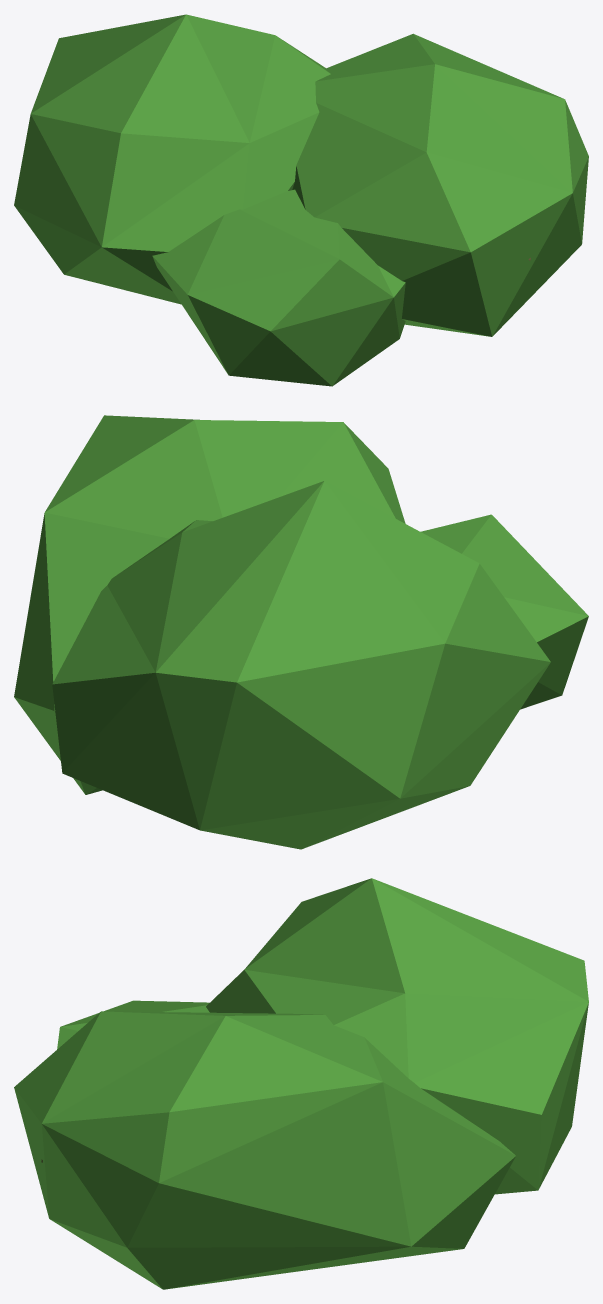
The model's file is bush.fbx.
3 views of the same model, one above another, from view 1: azimuth 30°, elevation 25°; view 2: azimuth 150°, elevation 25°; view 3: azimuth 270°, elevation 25° (orthographic). The views are drawn at different scales.
Parts seen in each view (by area): view 1: Foliage; view 2: Foliage; view 3: Foliage.
Part boxes in pixels (box(x1,y1,x2,y2)): Foliage: box(14, 14, 588, 386); Foliage: box(14, 415, 588, 849); Foliage: box(14, 878, 588, 1289).
Size of the model in its own units: 174 by 113 by 187.
